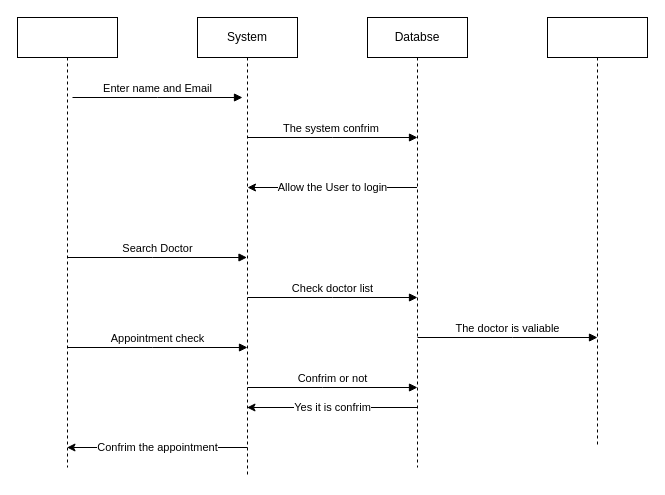
This 665x495 diagram has some shape labels left out. Here are the shapes that lost their labels. From the top down, the box of each, then its label:
(16, 16, 118, 468): Patient
(546, 16, 648, 448): Doctor
